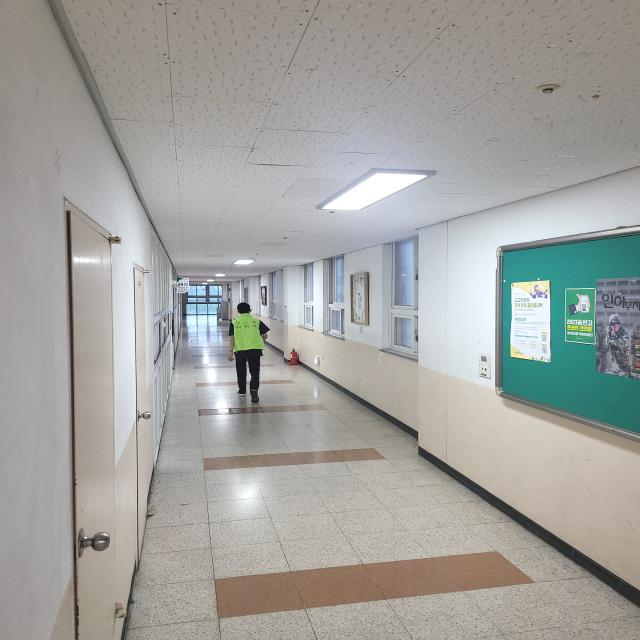weston_spy: (223, 309, 276, 359)
